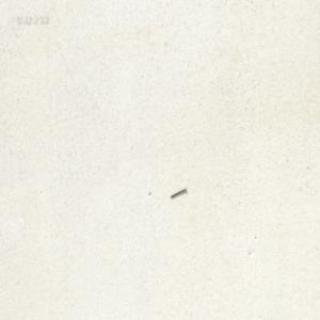Bolttrack_idkeyframe: (169, 185, 185, 197)
